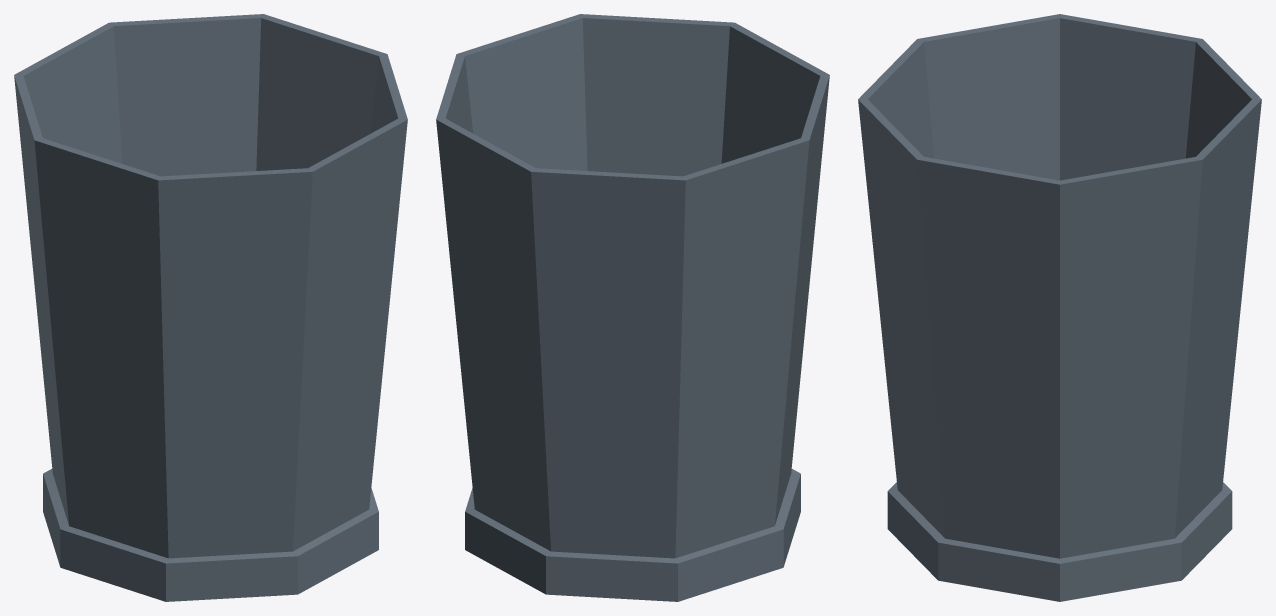
Rendered from DustBin_1.fbx.
3 views of the same model, side by side, from view 1: azimuth 30°, elevation 25°; view 2: azimuth 150°, elevation 25°; view 3: azimuth 270°, elevation 25° (orthographic).
Parts seen in each view (by area): view 1: polySurface2141; view 2: polySurface2141; view 3: polySurface2141.
Boxes of the visible parts, <box> form: polySurface2141: <box>14,14,407,601</box>; polySurface2141: <box>436,14,829,601</box>; polySurface2141: <box>858,14,1261,601</box>.
Bounding box in the file's own units: 0.48 × 0.5636 × 0.48.
Materials: 1 (1 with a texture image).
